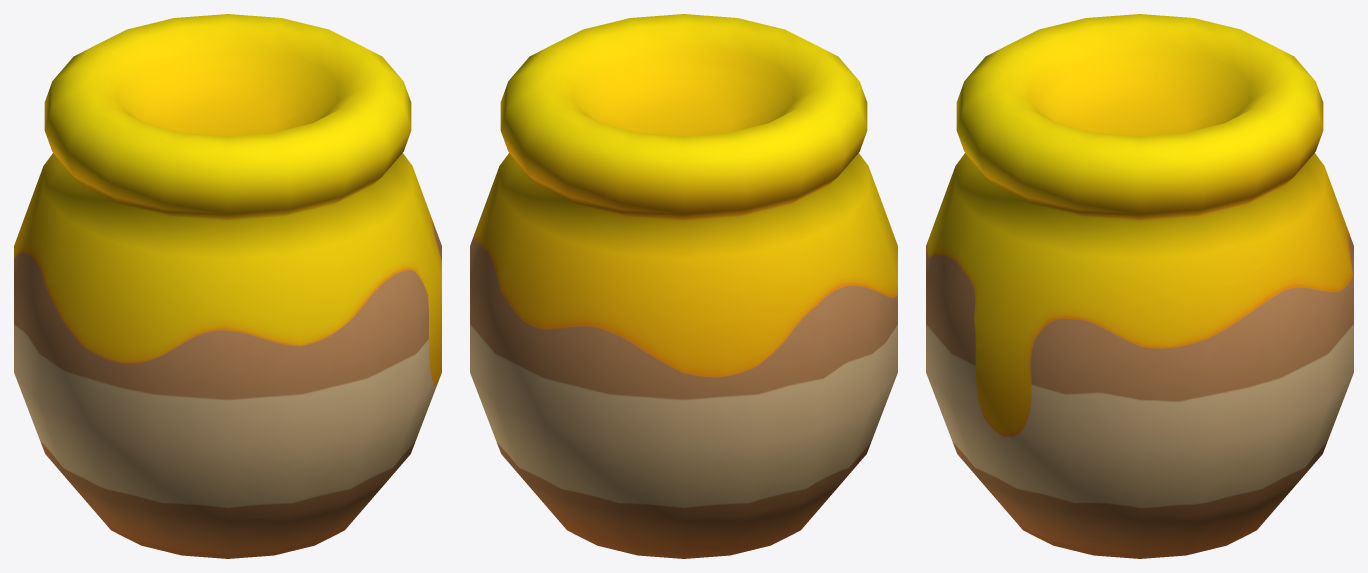
The model's file is HoneyJar.FBX.
3 views of the same model, side by side, from view 1: azimuth 30°, elevation 25°; view 2: azimuth 150°, elevation 25°; view 3: azimuth 270°, elevation 25° (orthographic).
Parts seen in each view (by area): view 1: HoneyJar; view 2: HoneyJar; view 3: HoneyJar.
Boxes of the visible parts, bbox=[...] form: HoneyJar: bbox=[14, 14, 441, 558]; HoneyJar: bbox=[470, 14, 897, 558]; HoneyJar: bbox=[926, 14, 1353, 558].
Size of the model in its own units: 74.76 by 80.12 by 73.63.
